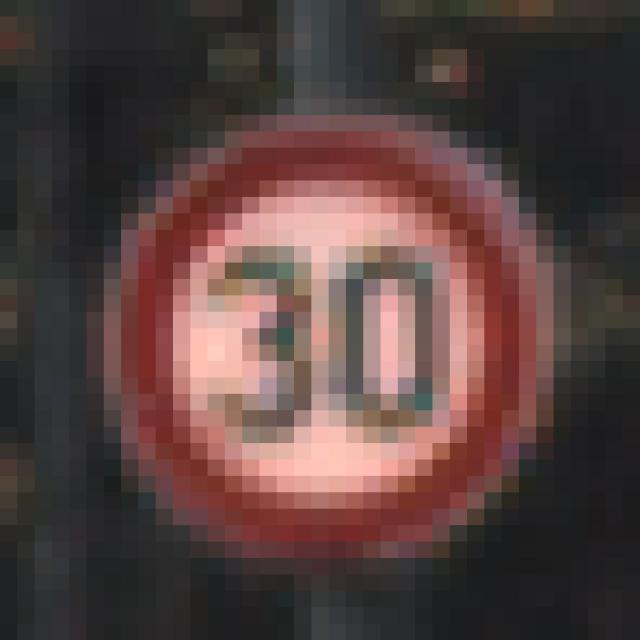Speed Limit -30-: (78, 74, 545, 534)
